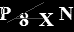8: (18, 13, 29, 26)
N: (58, 6, 74, 21)
P: (1, 6, 11, 21)
X: (37, 12, 54, 27)
